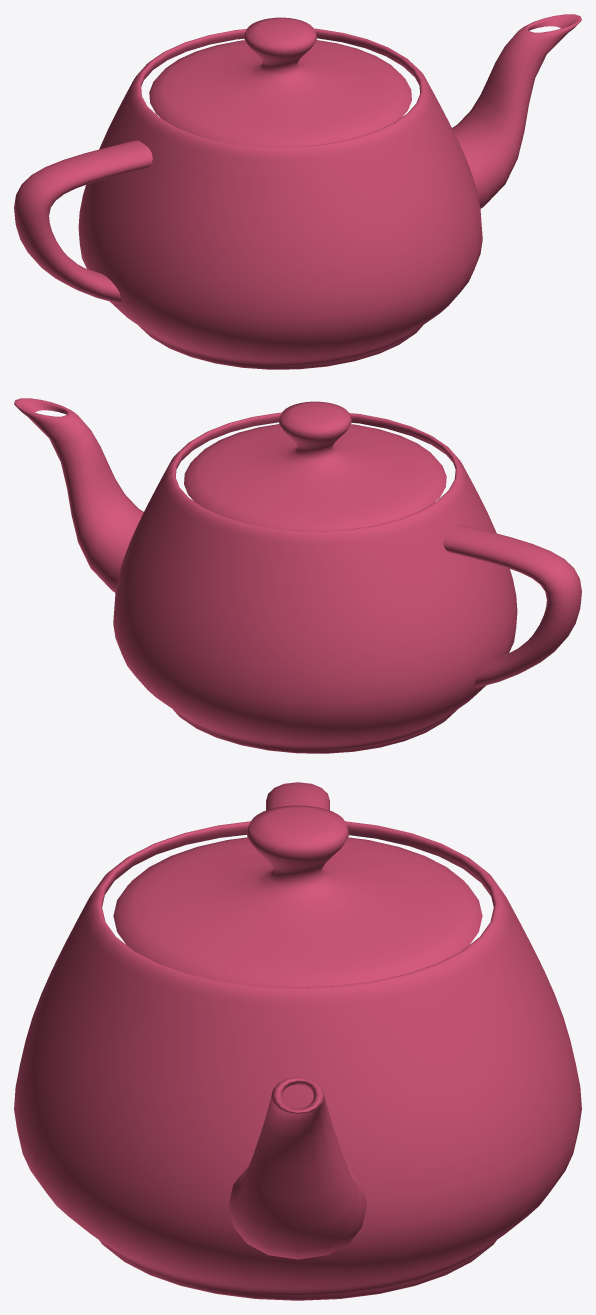
File: 巴比伦导出.glb
3 views of the same model, one above another, from view 1: azimuth 30°, elevation 25°; view 2: azimuth 150°, elevation 25°; view 3: azimuth 270°, elevation 25° (orthographic). The views are drawn at different scales.
Parts seen in each view (by area): view 1: Teapot001; view 2: Teapot001; view 3: Teapot001.
Part boxes in pixels (x1=…): Teapot001: x1=14, y1=14, x2=581, y2=369; Teapot001: x1=14, y1=398, x2=581, y2=753; Teapot001: x1=14, y1=782, x2=581, y2=1300.
Size of the model in its own units: 0.1061 by 0.0519 by 0.066.
